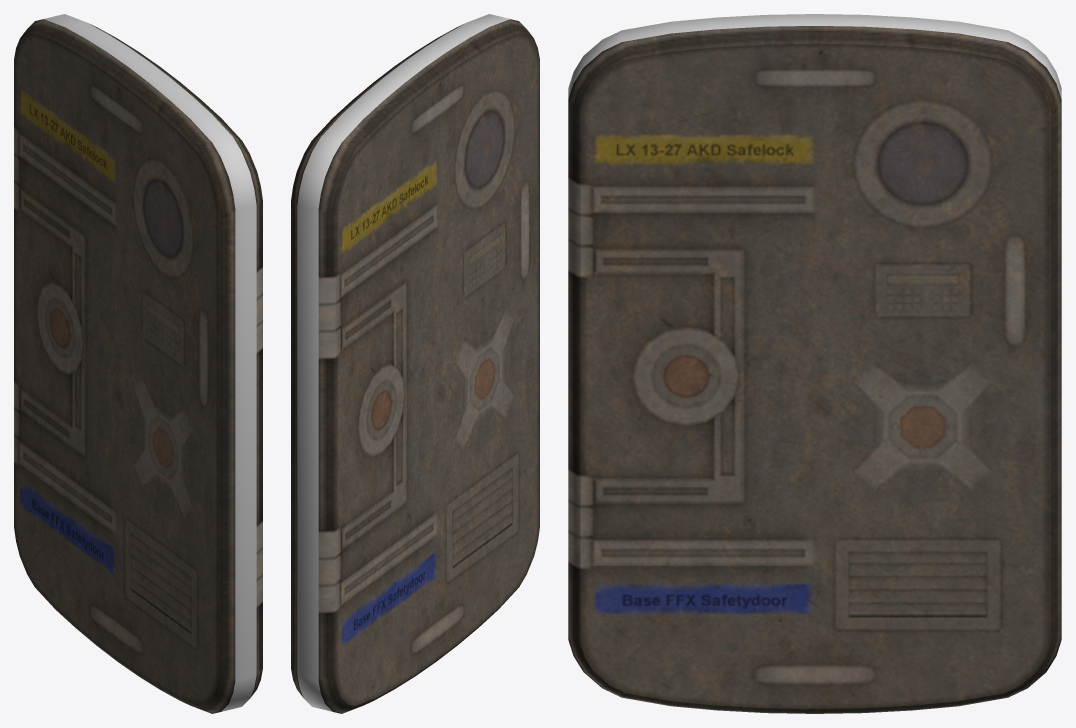
The model's file is door_inner.fbx.
3 renders of one model, left to right at view 1: azimuth 30°, elevation 25°; view 2: azimuth 150°, elevation 25°; view 3: azimuth 270°, elevation 25°, orthographic. The views are drawn at different scales.
Visible parts, largest first — view 1: Mesh; view 2: Mesh; view 3: Mesh.
Part boxes in pixels (<box>): Mesh: <box>14,14,262,713</box>; Mesh: <box>291,14,539,713</box>; Mesh: <box>568,14,1061,713</box>.
Size of the model in its own units: 10.47 by 135 by 87.84.
2 materials, 1 textured.
